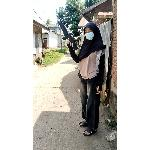Senapan: (56, 18, 82, 54)
